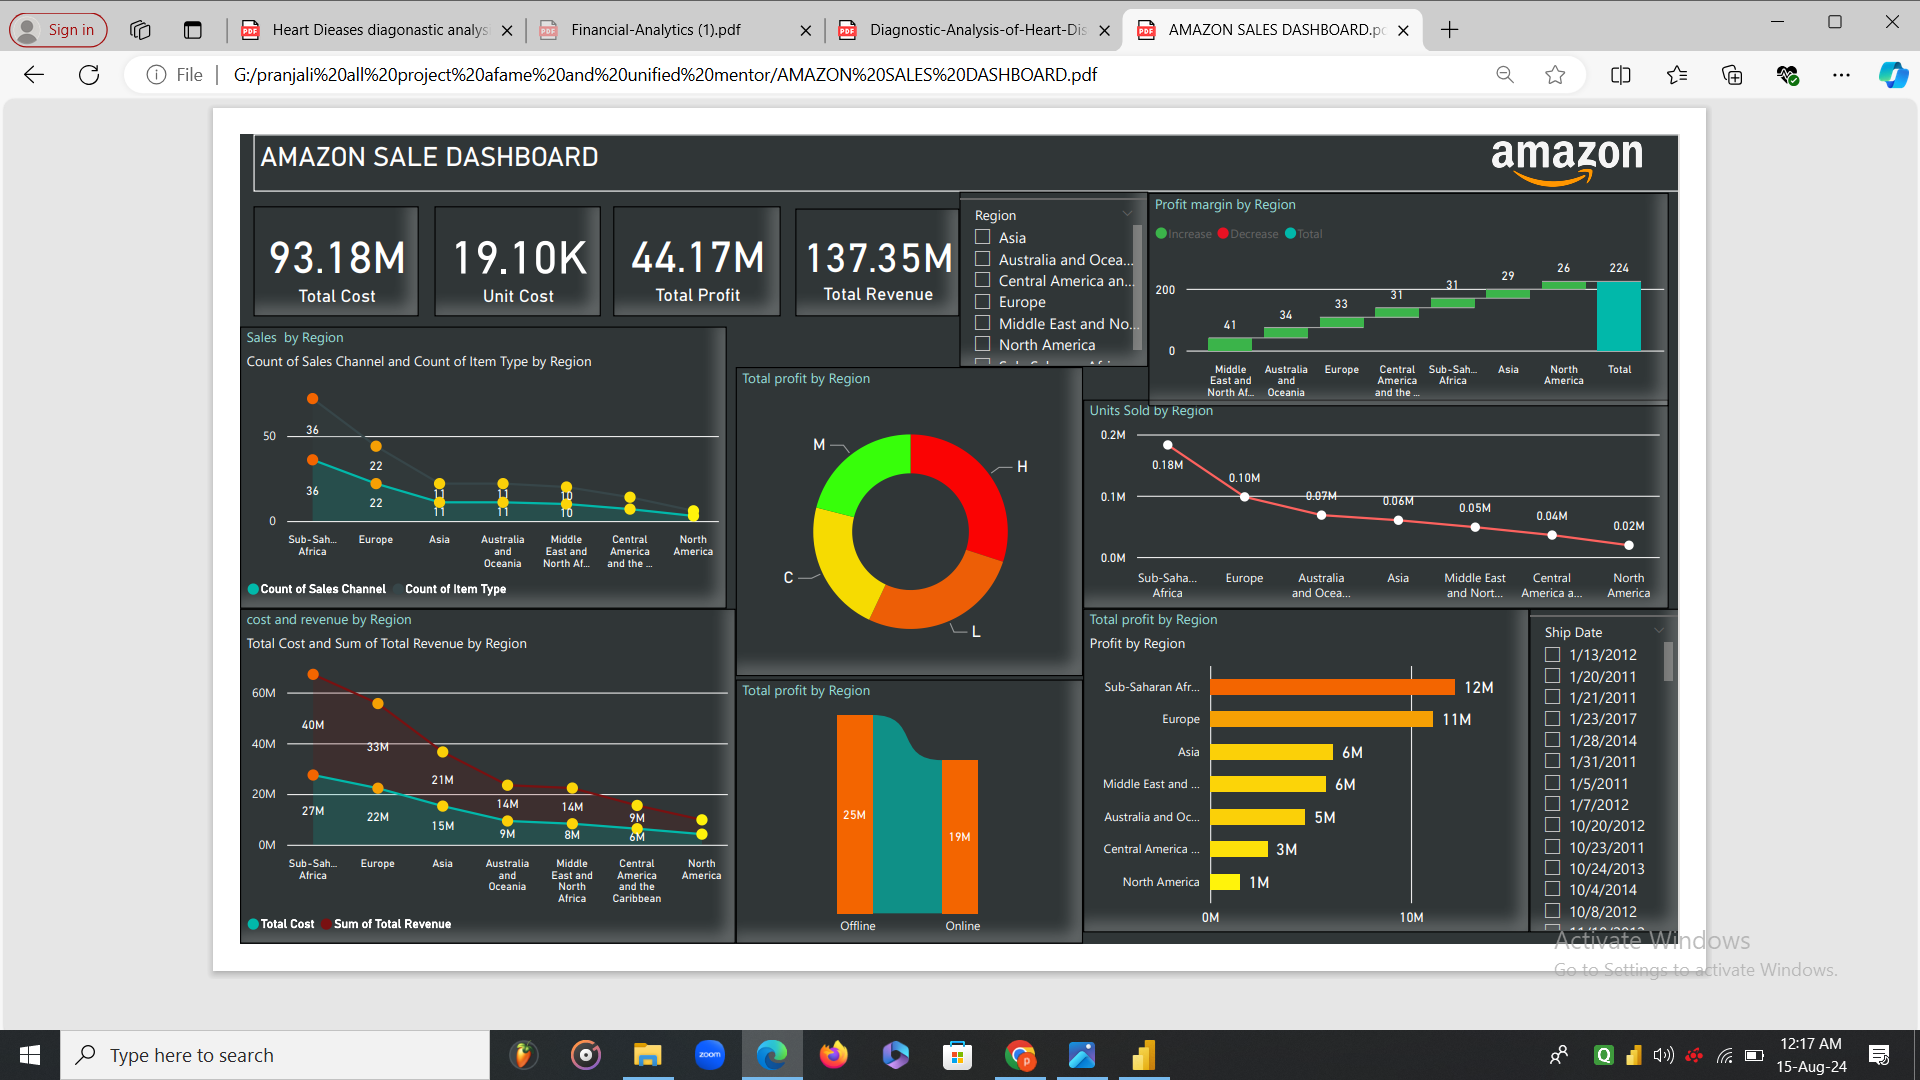

Layout of this report page (visuals, bound fields, positions):
{"tool":"powerbi","page":{"name":"Page 1","canvas":[1280,720],"ordinal":0},"visuals":[{"type":"textbox","box":[11.9,0,1268.6,51.2],"z":0},{"type":"card","fields":{"Values":["Sum(Amazon Sales data - Amazon Sales data.Total Cost)"]},"box":[12.3,64.4,146.7,97.3],"z":1000},{"type":"card","fields":{"Values":["Sum(Amazon Sales data - Amazon Sales data.Total Profit)"]},"box":[331.8,64.4,149.4,97.3],"z":2000},{"type":"card","fields":{"Values":["Sum(Amazon Sales data - Amazon Sales data.Unit Cost)"]},"box":[172.8,64.4,148.1,97.3],"z":3000},{"type":"card","fields":{"Values":["Sum(Amazon Sales data - Amazon Sales data.Total Revenue)"]},"box":[493.6,65.8,146.7,96],"z":4000},{"type":"image","box":[1088.6,1.4,182.3,49.4],"z":5000},{"type":"barChart","title":"Total profit by Region","fields":{"Category":["Amazon Sales data - Amazon Sales data.Region"],"Y":["Sum(Amazon Sales data - Amazon Sales data.Total Profit)"]},"box":[749.8,422.5,397.5,288],"z":6000},{"type":"lineChart","title":"Units Sold by Region","fields":{"Category":["Amazon Sales data - Amazon Sales data.Region"],"Y":["Sum(Amazon Sales data - Amazon Sales data.Units Sold)"]},"box":[749.8,235.6,521.3,186.8],"z":7000},{"type":"donutChart","title":"Total profit by Region","fields":{"Category":["Amazon Sales data - Amazon Sales data.Order Priority","Amazon Sales data - Amazon Sales data.Region"],"Y":["CountNonNull(Amazon Sales data - Amazon Sales data.Sales Channel)"]},"box":[441.4,207.4,308.7,275],"z":8000},{"type":"stackedAreaChart","title":"cost and revenue by Region","fields":{"Category":["Amazon Sales data - Amazon Sales data.Region"],"Y":["Sum(Amazon Sales data - Amazon Sales data.Total Cost)","Sum(Amazon Sales data - Amazon Sales data.Total Revenue)"]},"box":[0,422.3,441.5,297.5],"z":9000},{"type":"ribbonChart","title":"Total profit by Region","fields":{"Y":["Sum(Amazon Sales data - Amazon Sales data.Total Profit)"],"Category":["Amazon Sales data - Amazon Sales data.Sales Channel"]},"box":[441.5,485.4,308.5,234.4],"z":10000},{"type":"slicer","fields":{"Values":["Amazon Sales data - Amazon Sales data.Ship Date"]},"box":[1147.2,422.5,133.3,288],"z":11000},{"type":"slicer","fields":{"Values":["Amazon Sales data - Amazon Sales data.Region"]},"box":[640.3,50.7,167.3,156.3],"z":12000},{"type":"waterfallChart","title":"Profit margin by Region","fields":{"Category":["Amazon Sales data - Amazon Sales data.Region"],"Y":["Amazon Sales data - Amazon Sales data.Profit Margin"]},"box":[808.1,52.4,462.9,189.2],"z":13000},{"type":"stackedAreaChart","title":"Sales  by Region","fields":{"Category":["Amazon Sales data - Amazon Sales data.Region"],"Y":["CountNonNull(Amazon Sales data - Amazon Sales data.Sales Channel)","CountNonNull(Amazon Sales data - Amazon Sales data.Item Type)"]},"box":[0,171.4,432.7,250.5],"z":14000}]}

Visuals, with their boxes on the page's 1280x720 design canvas (x1, y1, x2, y2). These are canvas units, not pixel positions in the 1920x1080 screenshot, which may show the page scaled, cropped or inside an application window:
textbox: [12, 0, 1280, 51]
card - Sum(Amazon Sales data - Amazon Sales data.Total Cost): [12, 64, 159, 162]
card - Sum(Amazon Sales data - Amazon Sales data.Total Profit): [332, 64, 481, 162]
card - Sum(Amazon Sales data - Amazon Sales data.Unit Cost): [173, 64, 321, 162]
card - Sum(Amazon Sales data - Amazon Sales data.Total Revenue): [494, 66, 640, 162]
image: [1089, 1, 1271, 51]
"Total profit by Region" barChart: [750, 422, 1147, 710]
"Units Sold by Region" lineChart: [750, 236, 1271, 422]
"Total profit by Region" donutChart: [441, 207, 750, 482]
"cost and revenue by Region" stackedAreaChart: [0, 422, 442, 720]
"Total profit by Region" ribbonChart: [442, 485, 750, 720]
slicer - Amazon Sales data - Amazon Sales data.Ship Date: [1147, 422, 1280, 710]
slicer - Amazon Sales data - Amazon Sales data.Region: [640, 51, 808, 207]
"Profit margin by Region" waterfallChart: [808, 52, 1271, 242]
"Sales  by Region" stackedAreaChart: [0, 171, 433, 422]
